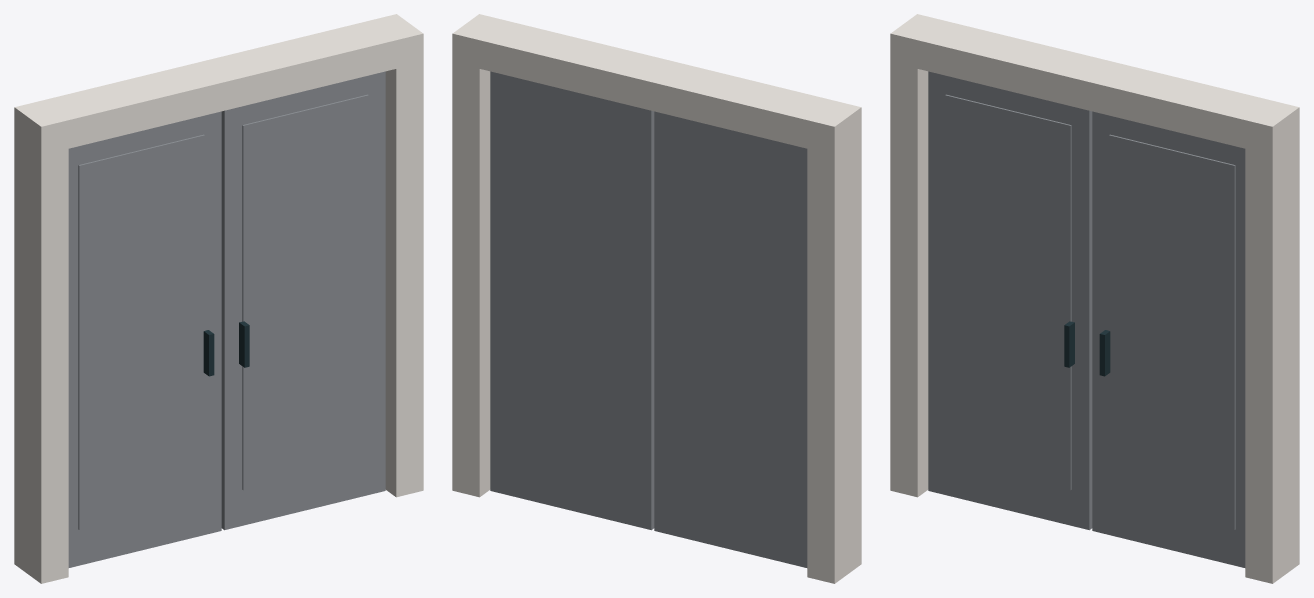
File: double_doors.glb
3 renders of one model, left to right at view 1: azimuth 30°, elevation 25°; view 2: azimuth 150°, elevation 25°; view 3: azimuth 330°, elevation 25°, orthographic.
Visible parts, largest first — view 1: frutiger_aero_double_doors; view 2: frutiger_aero_double_doors; view 3: frutiger_aero_double_doors.
Boxes of the visible parts, bbox=[...] form: frutiger_aero_double_doors: bbox=[14, 14, 423, 583]; frutiger_aero_double_doors: bbox=[452, 14, 861, 583]; frutiger_aero_double_doors: bbox=[890, 14, 1299, 583].
Size of the model in its own units: 2.8 by 3.2 by 0.34.
Materials: 3 (3 with a texture image).
